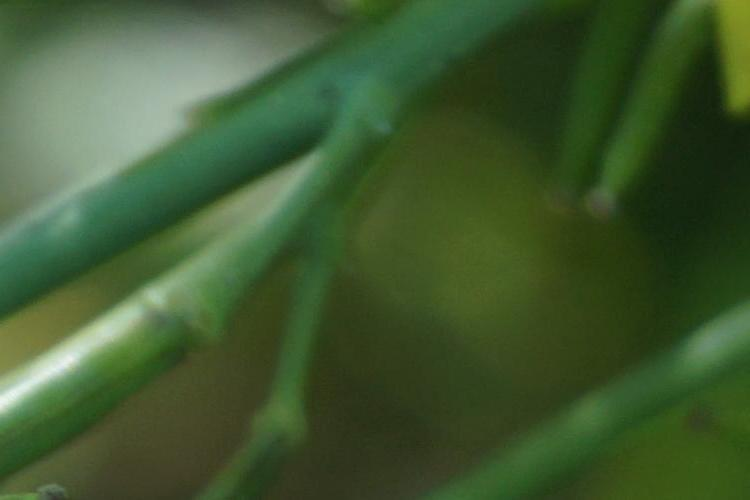pod: (585, 18, 712, 230), (537, 3, 642, 222)
